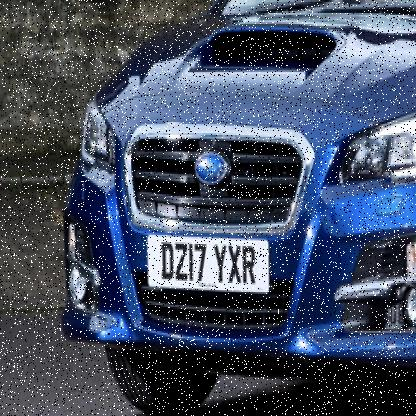licence: (148, 231, 269, 292)
